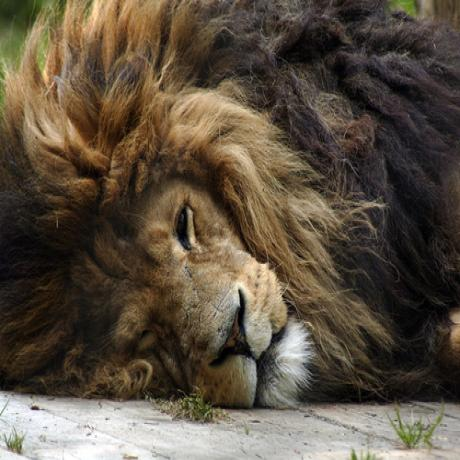Lion: (2, 0, 460, 409)
